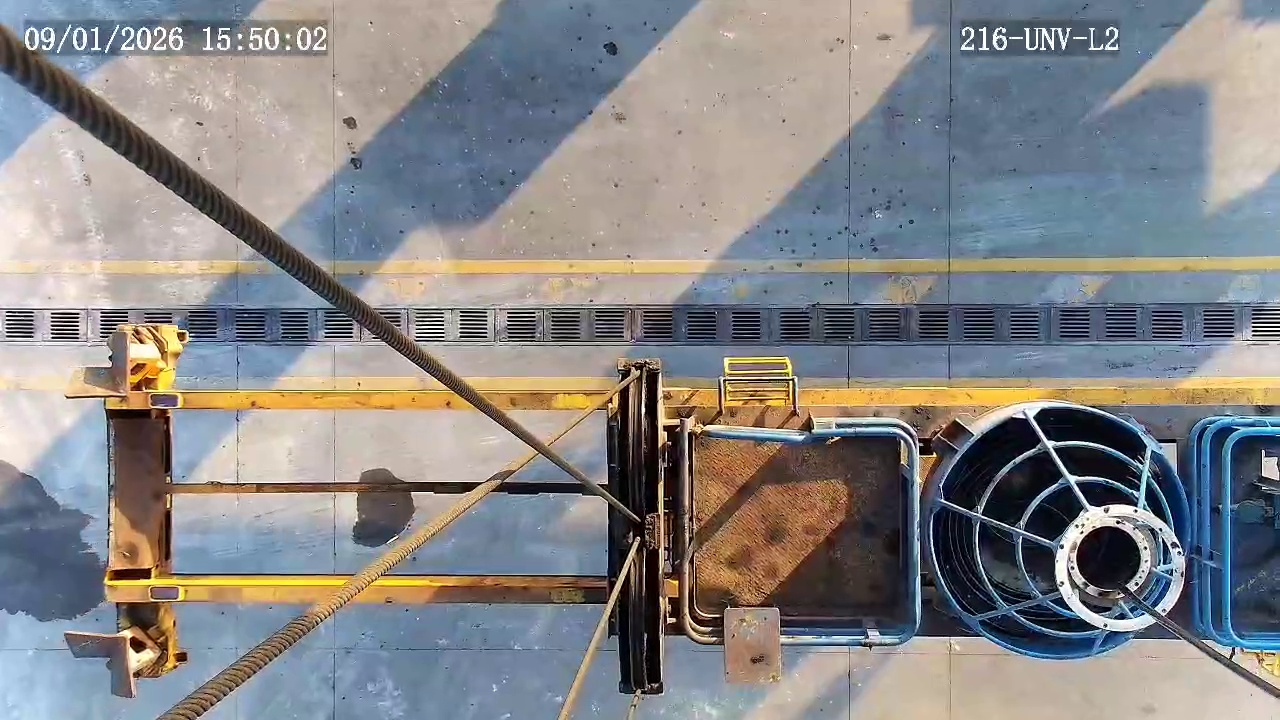left: (931, 405, 1193, 660)
